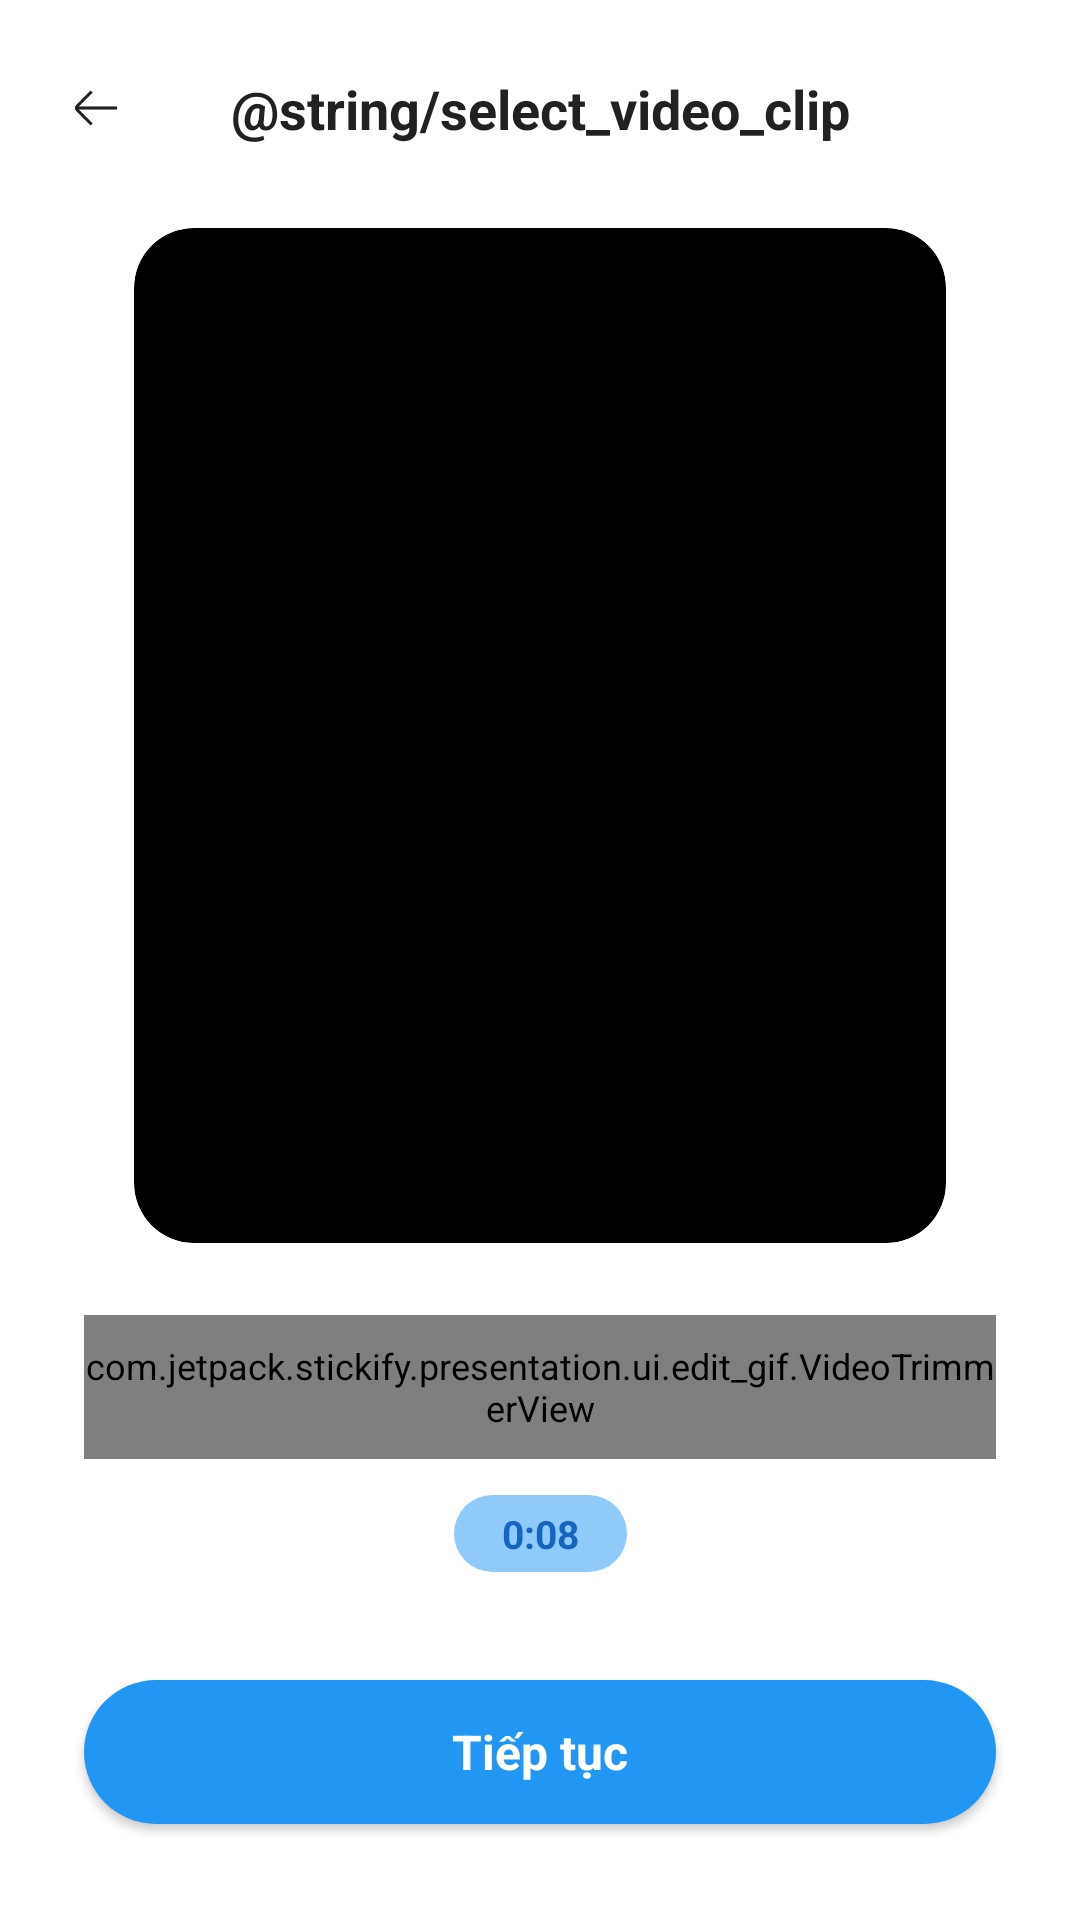

Where icons sit on this 1080 x 1920 app screen, as [x1=x1, y1=y1, x2=x2, y2=y2]:
back: [x1=75, y1=90, x2=117, y2=126]
